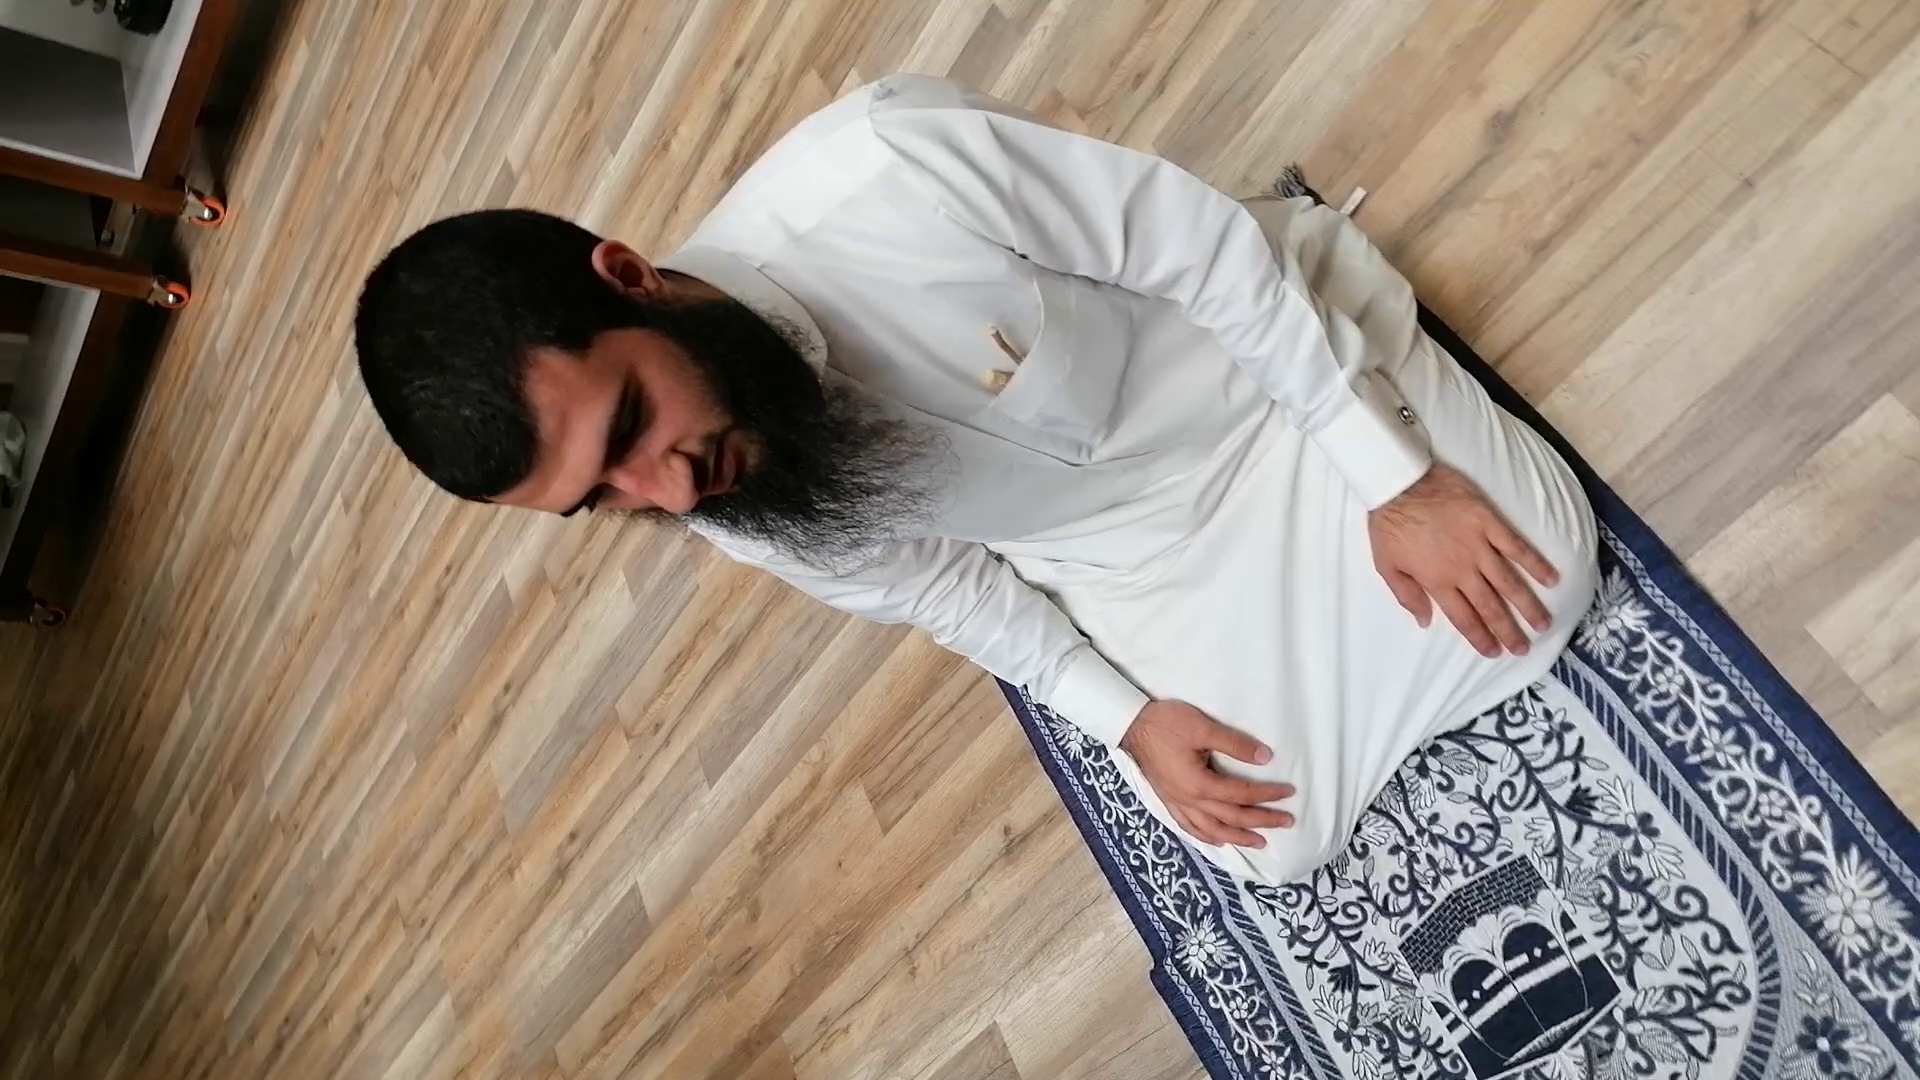sitting: (295, 61, 1629, 905)
